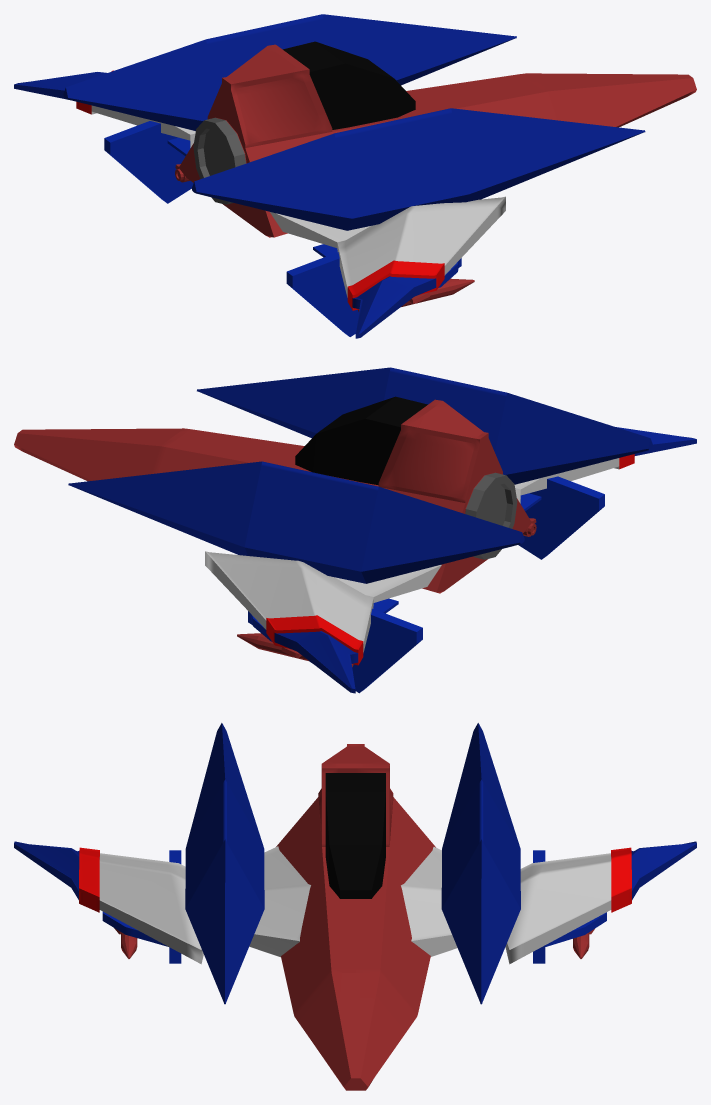
Rendered from Ship.fbx.
3 renders of one model, top to bottom at view 1: azimuth 30°, elevation 25°; view 2: azimuth 150°, elevation 25°; view 3: azimuth 270°, elevation 25°, orthographic.
Parts seen in each view (by area): view 1: pCube5, pCube3, pCube8, pCube6, pCube12, pCube11, pCube10, pCylinder2, pCube7, pCylinder3; view 2: pCube8, pCube3, pCube5, pCube7, pCube12, pCube10, pCube11, pCylinder2, pCube6, pCylinder5; view 3: pCube3, pCube5, pCube6, pCube8, pCube7, pCube12, pCube11, pCube10.
Part boxes in pixels (x1,y1,x2,y2): pCube5: (191, 108, 645, 230); pCube3: (178, 44, 696, 237); pCube8: (63, 14, 516, 130); pCube6: (270, 196, 505, 338); pCube12: (283, 41, 415, 129); pCube11: (104, 121, 193, 203); pCube10: (286, 244, 461, 336); pCylinder2: (193, 117, 246, 204); pCube7: (14, 70, 195, 147); pCylinder3: (358, 278, 474, 311); pCube8: (68, 461, 524, 583); pCube3: (14, 399, 531, 593); pCube5: (197, 367, 652, 484); pCube7: (205, 551, 441, 693); pCube12: (295, 396, 427, 485); pCube10: (518, 476, 604, 559); pCube11: (248, 598, 422, 693); pCylinder2: (464, 472, 517, 559); pCube6: (514, 427, 696, 503); pCylinder5: (237, 633, 353, 666); pCube3: (276, 744, 435, 1090); pCube5: (185, 723, 264, 1004); pCube6: (14, 841, 310, 964); pCube8: (441, 723, 520, 1004); pCube7: (401, 841, 696, 964); pCube12: (325, 773, 385, 898); pCube11: (533, 850, 606, 963); pCube10: (102, 850, 181, 963).
Bounding box in the file's own units: 8.64 × 2.98 × 9.08.
